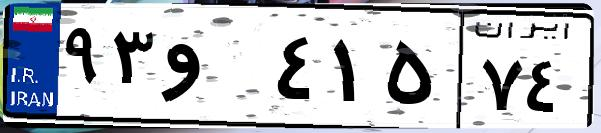1: (330, 28, 385, 110)
3: (110, 28, 158, 98)
4: (270, 28, 330, 110), (525, 38, 570, 115)
5: (385, 28, 445, 110)
7: (475, 38, 525, 113)
9: (57, 26, 110, 100)
و: (158, 20, 270, 120)
